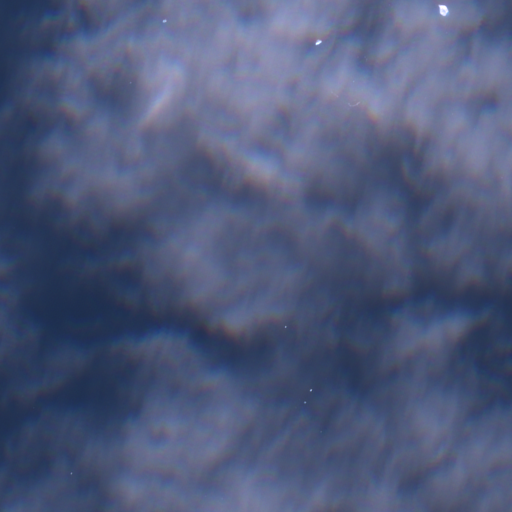Iceberg: (438, 5, 448, 15), (315, 40, 321, 44), (162, 19, 166, 22), (70, 472, 72, 474), (310, 389, 311, 391), (304, 401, 305, 403), (285, 326, 286, 327), (320, 431, 321, 432)
